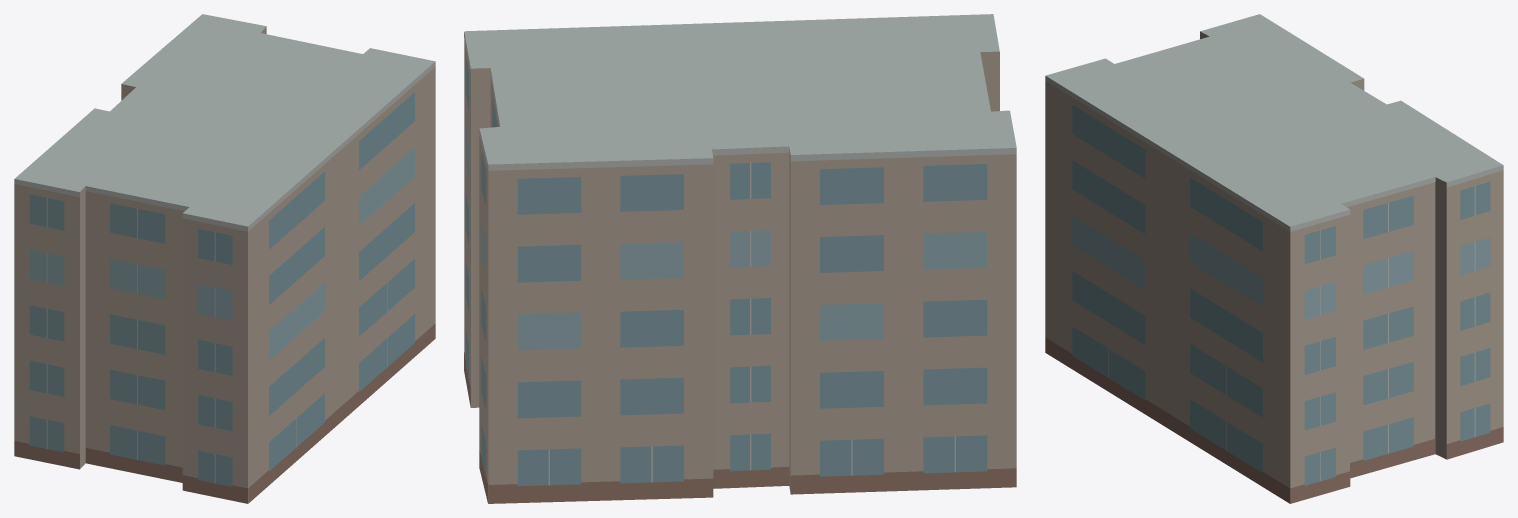
File: survey-upis-32922056.glb
3 views of the same model, side by side, from view 1: azimuth 30°, elevation 25°; view 2: azimuth 150°, elevation 25°; view 3: azimuth 270°, elevation 25° (orthographic). The views are drawn at different scales.
Parts seen in each view (by area): view 1: survey-upis-32922056.tmp; view 2: survey-upis-32922056.tmp; view 3: survey-upis-32922056.tmp.
Part boxes in pixels (left/top/right/bottom): survey-upis-32922056.tmp: left=14, top=14, right=435, bottom=503; survey-upis-32922056.tmp: left=464, top=14, right=1016, bottom=503; survey-upis-32922056.tmp: left=1045, top=14, right=1503, bottom=503.
Size of the model in its own units: 21.91 by 13.3 by 19.94.
